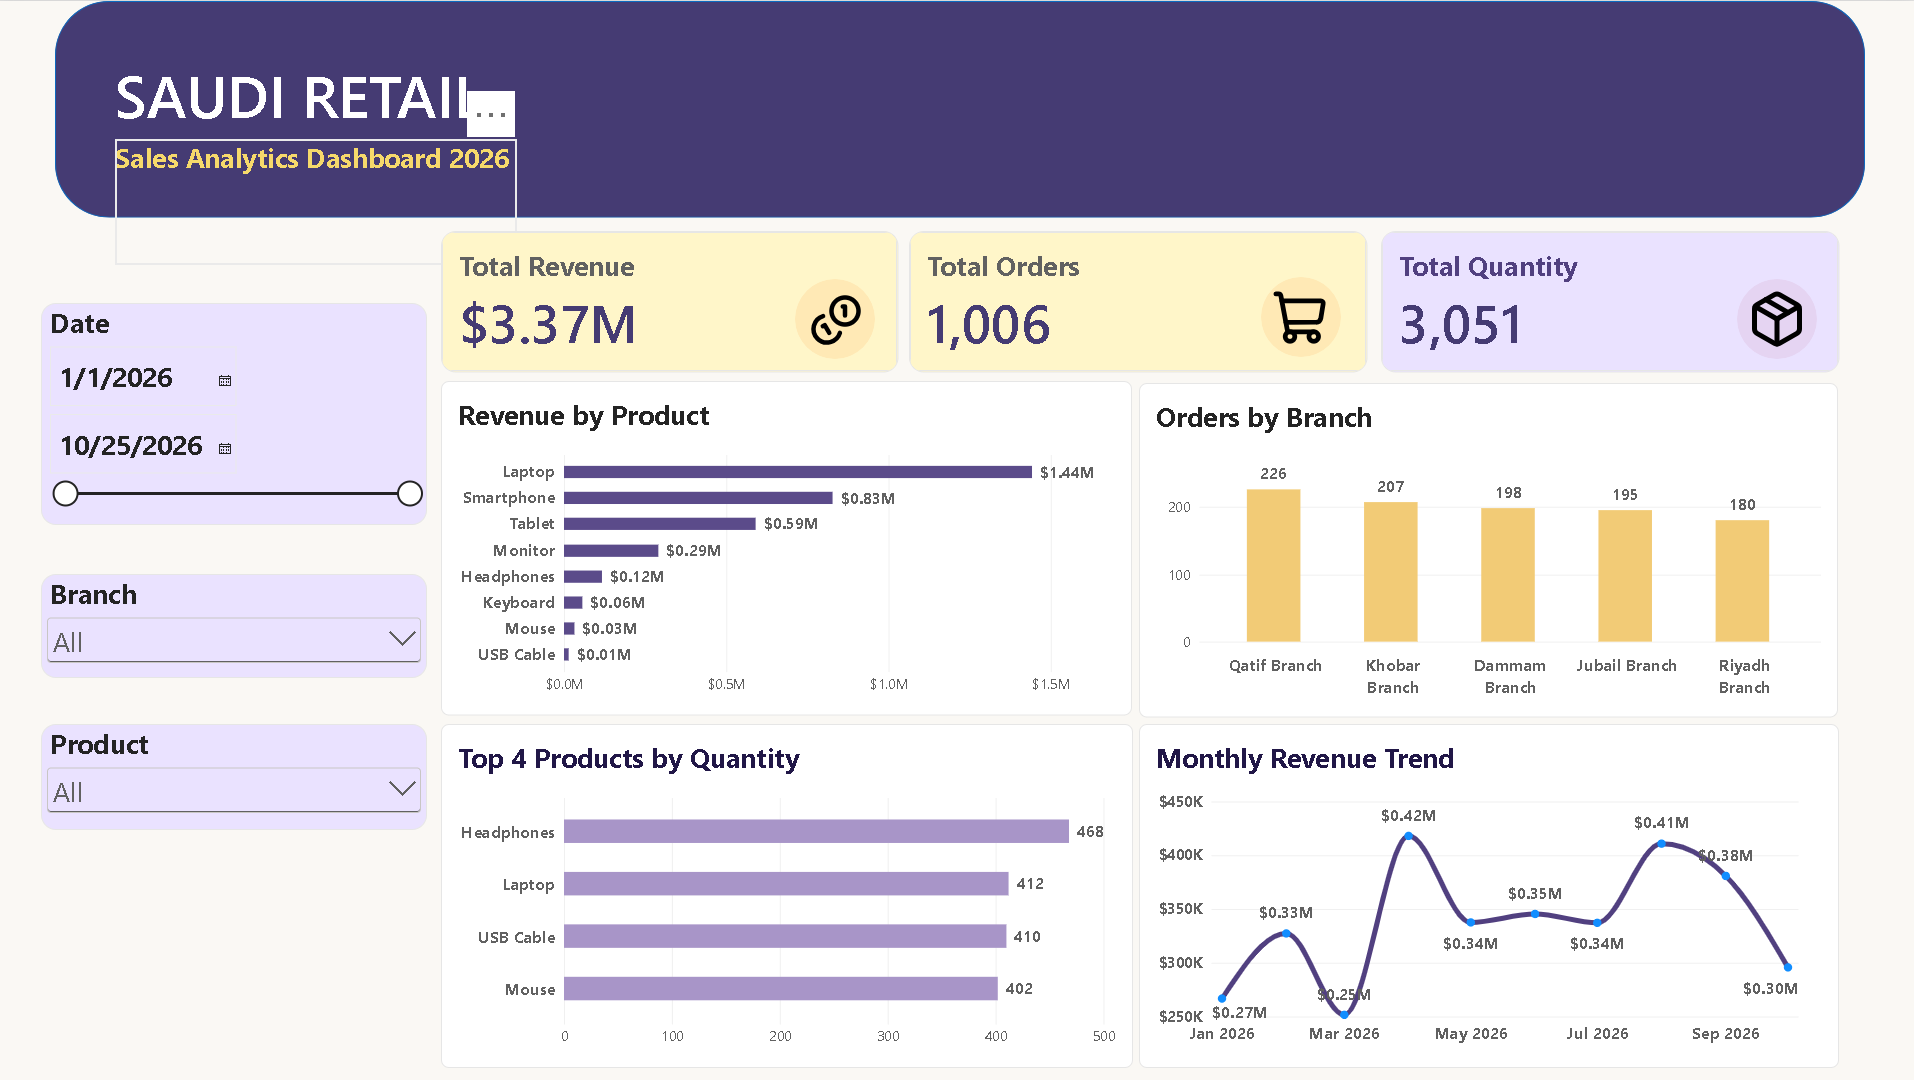

The page's visual inventory and layout, read from the dashboard file:
{"tool":"powerbi","page":{"name":"Page 1","canvas":[1920,1080],"ordinal":0},"visuals":[{"type":"shape","box":[60,0,1810,216.7],"z":0},{"type":"textbox","box":[120,54,374,124],"z":1000},{"type":"textbox","box":[120,138,402,126],"z":2000},{"type":"cardVisual","fields":{"Data":["public sales_analytics.Total Revenue"]},"box":[445.8,230.8,457.5,141.7],"z":3000},{"type":"cardVisual","title":"Total Orders","fields":{"Data":["public sales_analytics.Total Orders Display"]},"box":[914.2,230.8,458.3,141.7],"z":4000},{"type":"cardVisual","fields":{"Data":["public sales_analytics.Total Quantity Display"]},"box":[1386,230,458.3,141.7],"z":5000},{"type":"clusteredBarChart","title":"Revenue by Product","fields":{"Category":["public sales_analytics.productname"],"Y":["public sales_analytics.Total Revenue"]},"box":[445.5,380.9,690.9,333.6],"z":6000},{"type":"clusteredColumnChart","title":"Orders by Branch","fields":{"Category":["public sales_analytics.branchname"],"Y":["public sales_analytics.Total Orders"]},"box":[1143.6,381.8,699.1,333.6],"z":7000},{"type":"clusteredBarChart","title":"Top 4 Products by Quantity","fields":{"Category":["public sales_analytics.productname"],"Y":["Sum(public sales_analytics.quantity)"]},"box":[446,722,692,344],"z":8000},{"type":"lineChart","title":"Monthly Revenue Trend","fields":{"Category":["public sales_analytics.orderdate.Variation.Date Hierarchy.Year","public sales_analytics.orderdate.Variation.Date Hierarchy.Month"],"Y":["public sales_analytics.Total Revenue"]},"box":[1144,722,700,344],"z":9000},{"type":"slicer","title":"Date","fields":{"Values":["public sales_analytics.orderdate"]},"box":[46,302,386,222],"z":10000},{"type":"slicer","fields":{"Values":["public sales_analytics.branchname"]},"box":[46,572,386,104],"z":11000},{"type":"slicer","fields":{"Values":["public sales_analytics.productname"]},"box":[46,722,386,106],"z":12000},{"type":"shape","box":[1266,276,80,80],"z":13000},{"type":"shape","box":[799.1,277.3,80,80],"z":13000,"group":"g1"},{"type":"shape","box":[1742.5,277.5,80,80],"z":14000,"group":"g2"},{"type":"image","box":[812.7,290.9,54,54],"z":14000,"group":"g1"},{"type":"group","id":"g1","title":"Group 1","box":[799.1,277.3,80,80],"z":15000},{"type":"image","box":[1276.2,287.5,57,57],"z":16000},{"type":"image","box":[1753,287.3,60,60],"z":16001,"group":"g2"},{"type":"group","id":"g2","title":"Group 2","box":[1742.5,277.5,80,80],"z":16002}]}

Visuals, with their boxes in screenshot pixels (x1, y1, x2, y2), scaled from the page's 1920x1080 canvas onto the 1914x1080 screenshot:
shape: detection(60, 0, 1864, 217)
textbox: detection(120, 54, 492, 178)
textbox: detection(120, 138, 520, 264)
cardVisual - public sales_analytics.Total Revenue: detection(444, 231, 900, 372)
"Total Orders" cardVisual: detection(911, 231, 1368, 372)
cardVisual - public sales_analytics.Total Quantity Display: detection(1382, 230, 1839, 372)
"Revenue by Product" clusteredBarChart: detection(444, 381, 1133, 714)
"Orders by Branch" clusteredColumnChart: detection(1140, 382, 1837, 715)
"Top 4 Products by Quantity" clusteredBarChart: detection(445, 722, 1134, 1066)
"Monthly Revenue Trend" lineChart: detection(1140, 722, 1838, 1066)
"Date" slicer: detection(46, 302, 431, 524)
slicer - public sales_analytics.branchname: detection(46, 572, 431, 676)
slicer - public sales_analytics.productname: detection(46, 722, 431, 828)
shape: detection(1262, 276, 1342, 356)
shape: detection(797, 277, 876, 357)
shape: detection(1737, 278, 1817, 358)
image: detection(810, 291, 864, 345)
"Group 1" group: detection(797, 277, 876, 357)
image: detection(1272, 288, 1329, 344)
image: detection(1748, 287, 1807, 347)
"Group 2" group: detection(1737, 278, 1817, 358)
